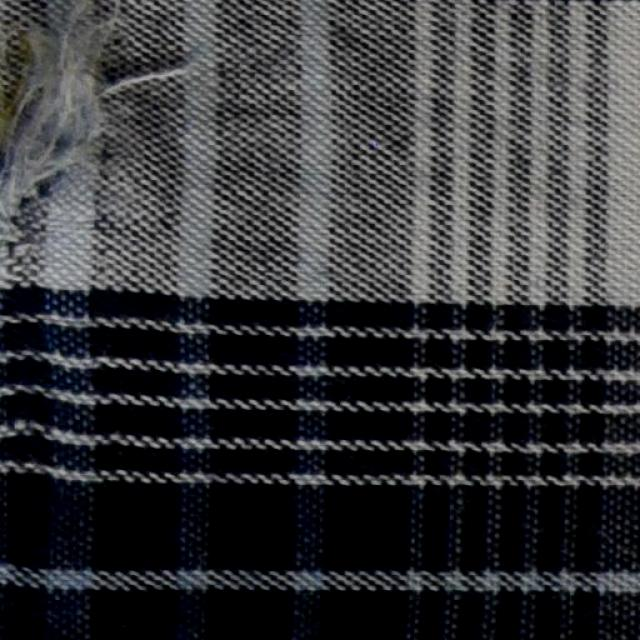Snag: (0, 8, 124, 232)
